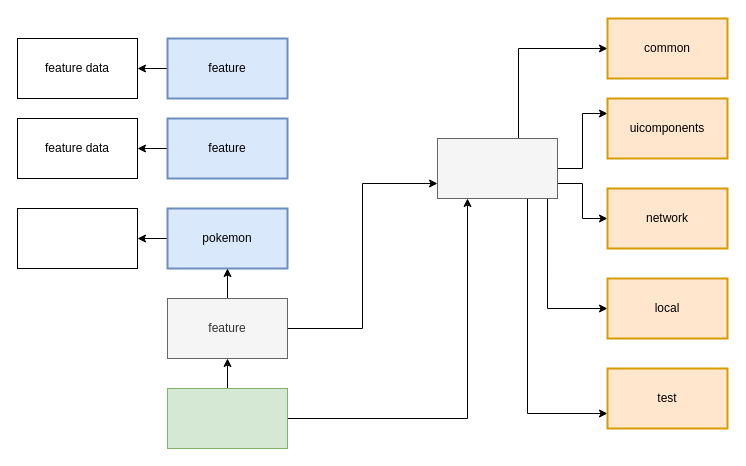
Image size: 746x466. Some labels were removed from this diagram. Each missing label, with the centre of its shape:
app: (x=227, y=418)
core: (x=497, y=168)
pokemon data: (x=77, y=238)
